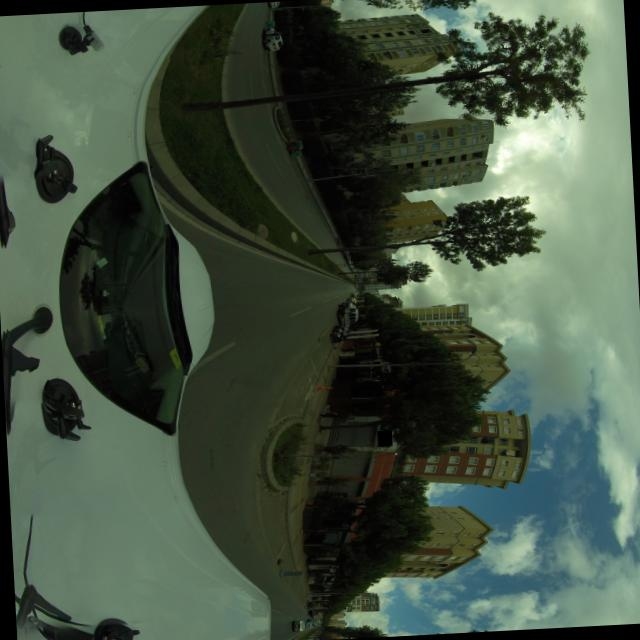SignStore: (377, 430, 391, 447)
